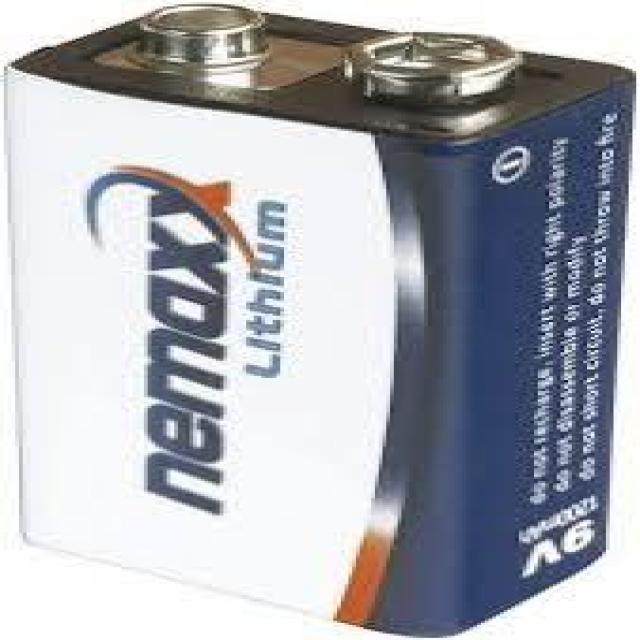9V: (12, 0, 636, 638)
